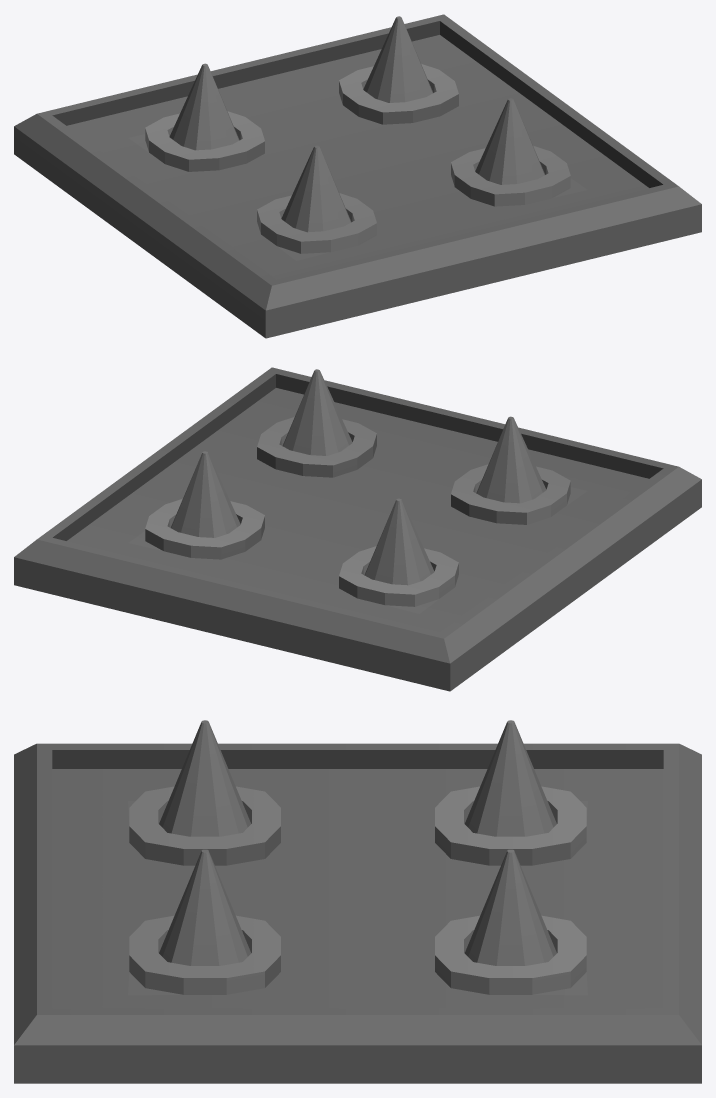
Rendered from Ground_Thorn_Trap_6.fbx.
3 renders of one model, top to bottom at view 1: azimuth 30°, elevation 25°; view 2: azimuth 150°, elevation 25°; view 3: azimuth 270°, elevation 25°, orthographic. The views are drawn at different scales.
Parts seen in each view (by area): view 1: Ground_Thorn_Trap_6, Ground_Thorn_Trap_6_Thorns; view 2: Ground_Thorn_Trap_6, Ground_Thorn_Trap_6_Thorns; view 3: Ground_Thorn_Trap_6, Ground_Thorn_Trap_6_Thorns.
Part boxes in pixels (x1,y1,x2,y2): Ground_Thorn_Trap_6: [14, 14, 701, 338]; Ground_Thorn_Trap_6_Thorns: [169, 16, 544, 232]; Ground_Thorn_Trap_6: [14, 367, 701, 691]; Ground_Thorn_Trap_6_Thorns: [171, 369, 546, 585]; Ground_Thorn_Trap_6: [14, 743, 701, 1083]; Ground_Thorn_Trap_6_Thorns: [159, 720, 556, 965].
Size of the model in its own units: 82.62 by 20.1 by 82.62.
1 material, 1 textured.
